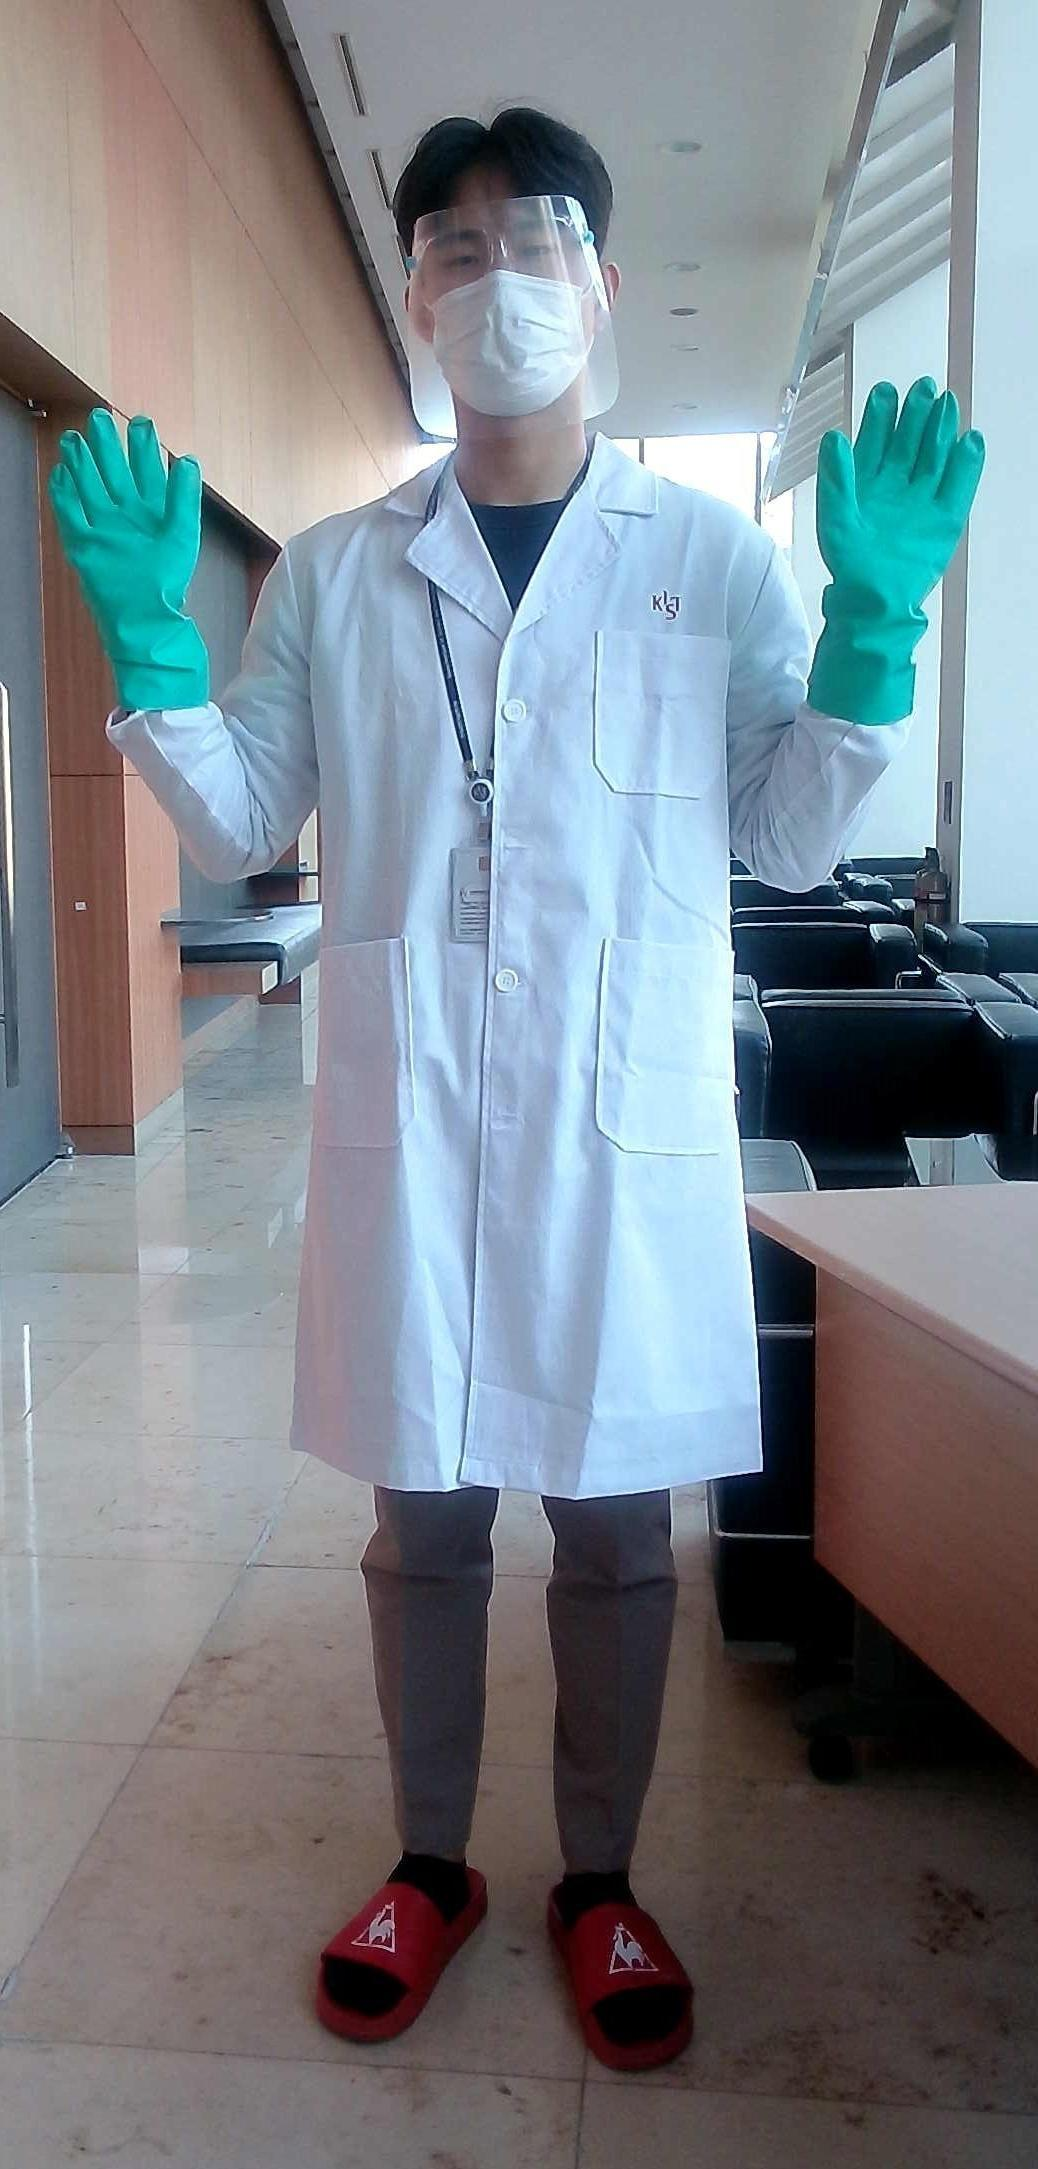lab_coat: (262, 501, 774, 1513)
